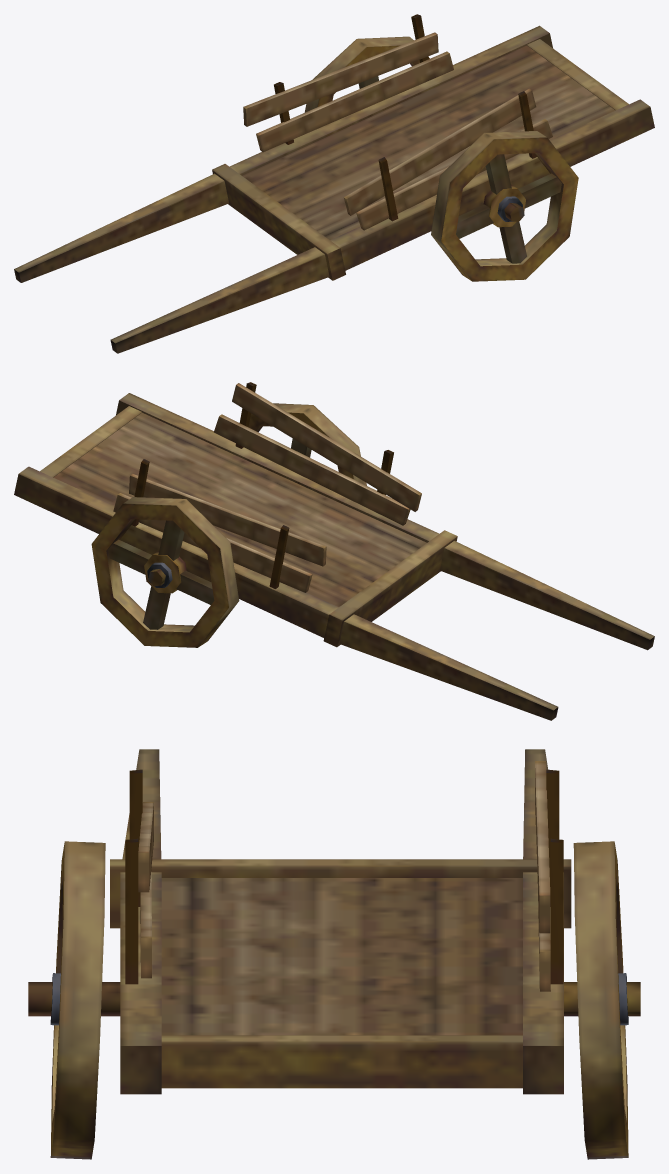
The model's file is b_general_obj_21.fbx.
The picture shows the model from 3 angles, top to bottom: view 1: azimuth 30°, elevation 25°; view 2: azimuth 150°, elevation 25°; view 3: azimuth 270°, elevation 25°; orthographic projection. The views are drawn at different scales.
Visible parts, largest first — view 1: Sphere01; view 2: Sphere01; view 3: Sphere01.
Boxes of the visible parts, bbox=[...] form: Sphere01: bbox=[14, 14, 654, 353]; Sphere01: bbox=[14, 382, 654, 720]; Sphere01: bbox=[28, 749, 640, 1159].
Size of the model in its own units: 4.77 by 1.44 by 2.36.
